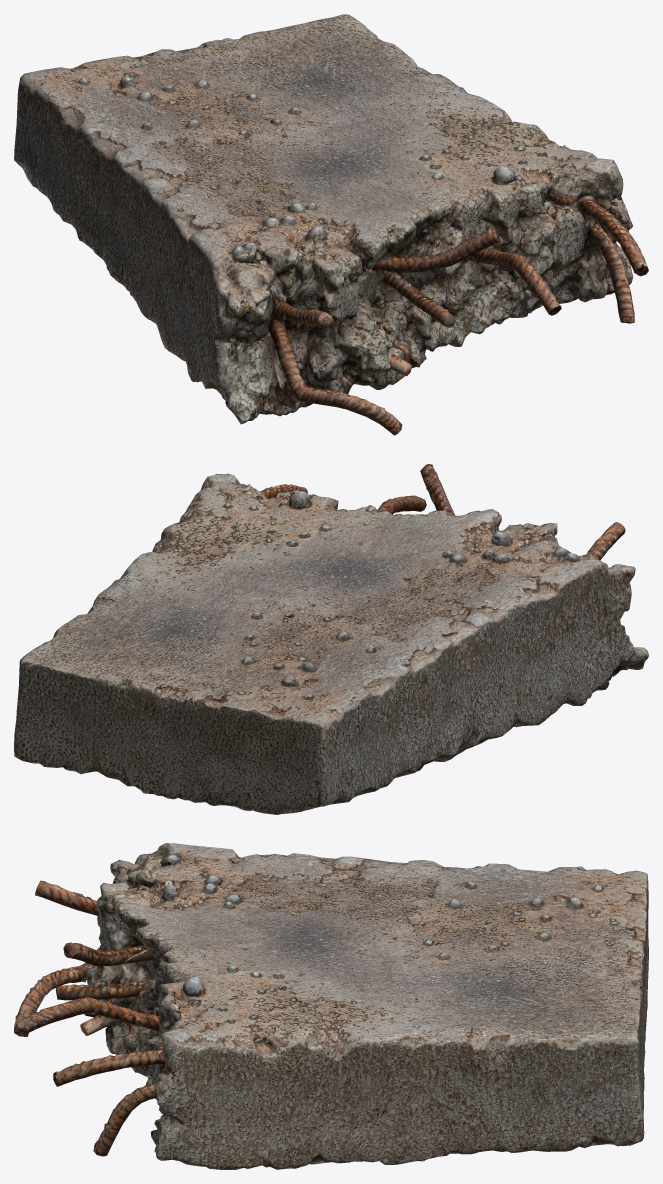
Rendered from BKI_SlabChunk.fbx.
The picture shows the model from 3 angles, top to bottom: view 1: azimuth 30°, elevation 25°; view 2: azimuth 150°, elevation 25°; view 3: azimuth 270°, elevation 25°; orthographic projection. The views are drawn at different scales.
Visible parts, largest first — view 1: texture_mapping; view 2: texture_mapping; view 3: texture_mapping.
Boxes of the visible parts, left/top/right/bottom form: texture_mapping: left=14, top=14, right=648, bottom=435; texture_mapping: left=14, top=464, right=648, bottom=814; texture_mapping: left=14, top=843, right=648, bottom=1169.
Bounding box in the file's own units: 0.7744 × 1 × 0.27.
1 material, 1 textured.
